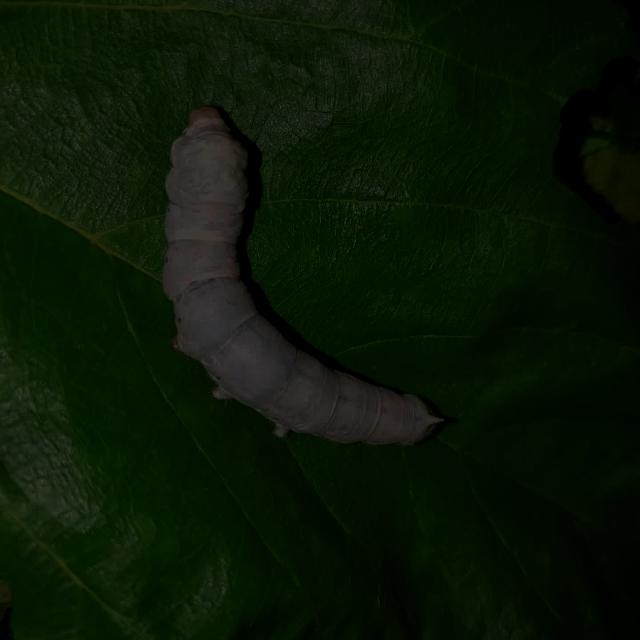Healthy: (131, 79, 471, 468)
